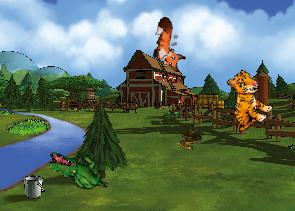crocodile: (47, 151, 108, 190)
fox: (148, 16, 192, 73)
tiger: (211, 66, 279, 136)
